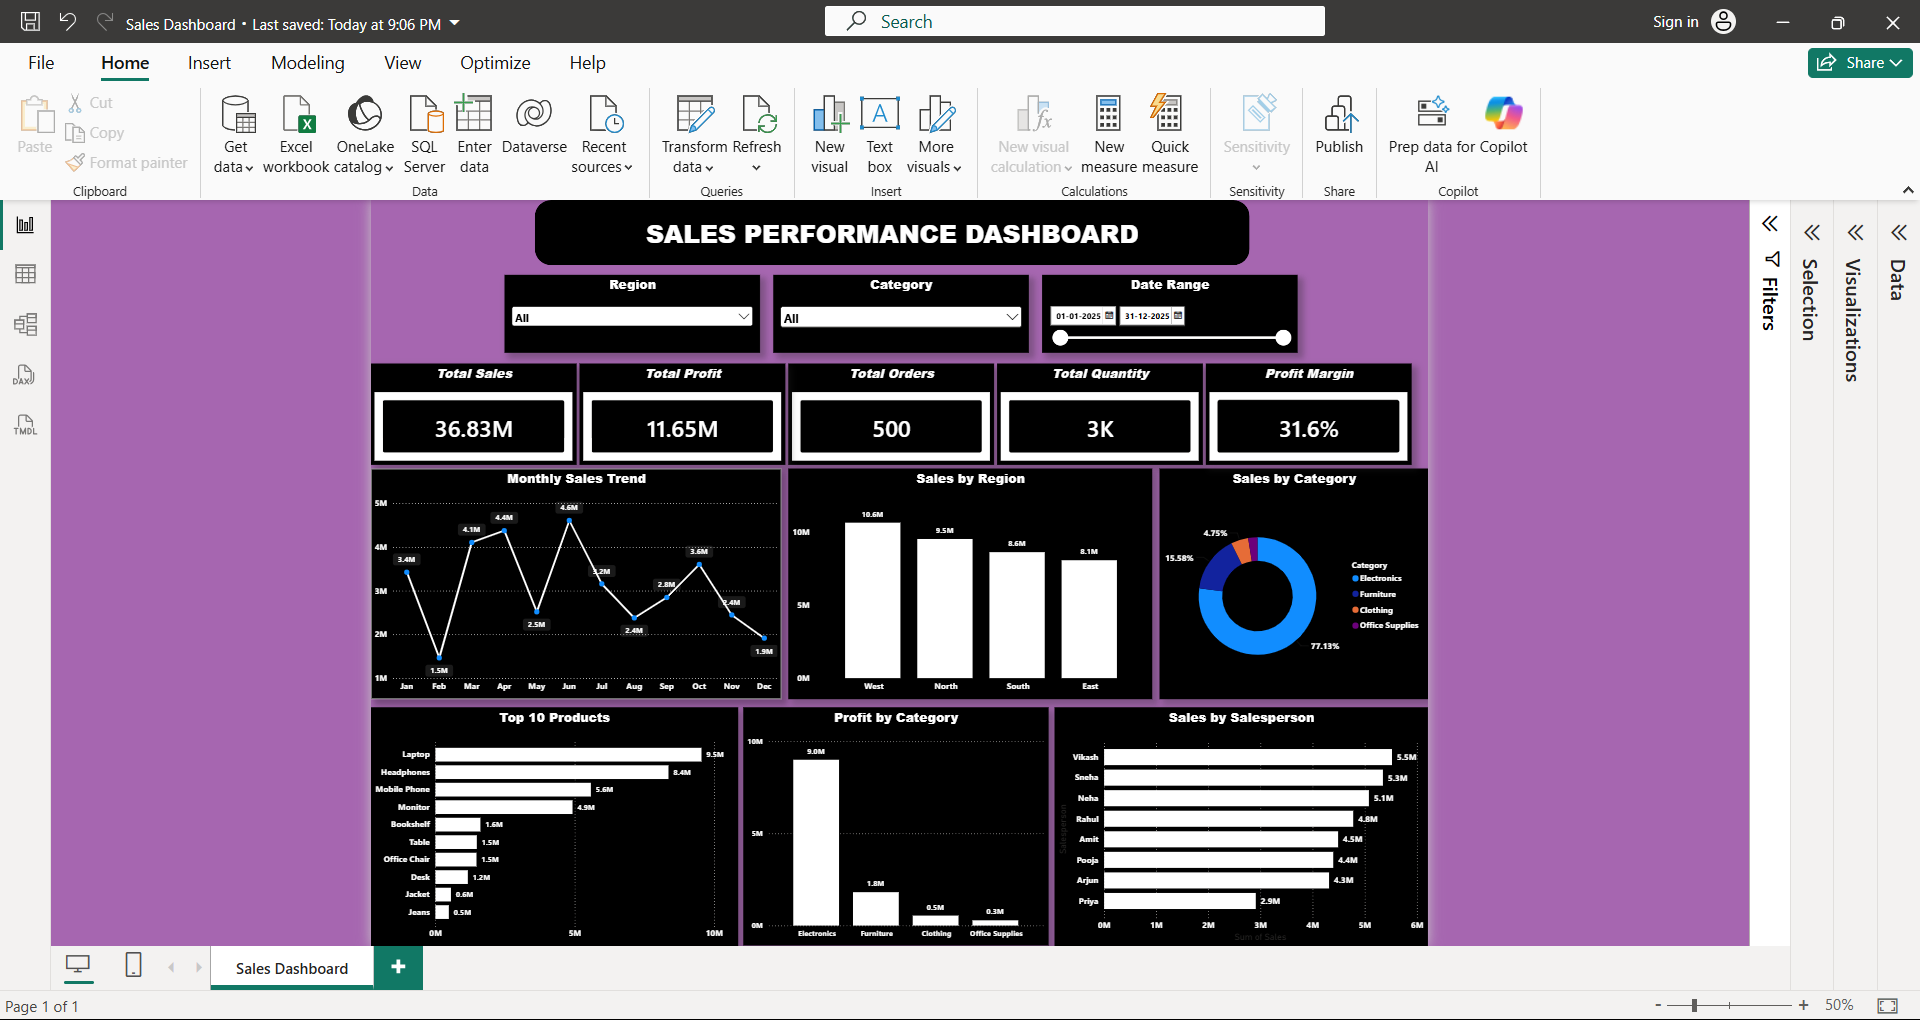

What the dashboard file says about the page in this screenshot:
{"tool":"powerbi","page":{"name":"Sales Dashboard","canvas":[1700,1200],"ordinal":0},"visuals":[{"type":"cardVisual","title":"Total Sales","fields":{"Data":["Sales Data.Total Sales"]},"box":[0,264,330,162],"z":0},{"type":"cardVisual","title":"Total Orders","fields":{"Data":["Sales Data.Total Orders"]},"box":[672,264,330,162],"z":1000},{"type":"cardVisual","title":"Total Profit","fields":{"Data":["Sales Data.Total Profit"]},"box":[336,264,330,162],"z":2000},{"type":"cardVisual","title":"Total Quantity","fields":{"Data":["Sales Data.Total Quantity"]},"box":[1008,264,330,162],"z":3000},{"type":"lineChart","title":"Monthly Sales Trend","fields":{"Category":["Date Table.Month"],"Y":["Sum(Sales Data.Sales)"]},"box":[0,432,660,370],"z":4000},{"type":"clusteredColumnChart","title":"Sales by Region","fields":{"Category":["Sales Data.Region"],"Y":["Sum(Sales Data.Sales)"]},"box":[672,432,585,370],"z":5000},{"type":"donutChart","title":"Sales by Category","fields":{"Category":["Sales Data.Category"],"Y":["Sum(Sales Data.Sales)"]},"box":[1268,432,432,370],"z":6000},{"type":"clusteredBarChart","title":"Top 10 Products","fields":{"Category":["Sales Data.Product"],"Y":["Sum(Sales Data.Sales)"]},"box":[0,816,590,384],"z":7000},{"type":"clusteredColumnChart","title":"Profit by Category","fields":{"Category":["Sales Data.Category"],"Y":["Sum(Sales Data.Profit)"]},"box":[600,816,490,382],"z":9000},{"type":"cardVisual","title":"Profit Margin","fields":{"Data":["Date Table.Profit Margin%"]},"box":[1344,264,330,162],"z":10000},{"type":"slicer","title":"Region","fields":{"Values":["Sales Data.Region"]},"box":[216,120,410,125],"z":11000},{"type":"slicer","title":"Category","fields":{"Values":["Sales Data.Category"]},"box":[648,120,410,125],"z":12000},{"type":"slicer","title":"Date Range","fields":{"Values":["Date Table.Date"]},"box":[1080,120,410,125],"z":13000},{"type":"clusteredBarChart","title":"Sales by Salesperson","fields":{"Category":["Sales Data.Salesperson"],"Y":["Sum(Sales Data.Sales)"]},"box":[1100,816,600,384],"z":14000},{"type":"shape","box":[264,0,1150,105],"z":15000}]}

Visuals, with their boxes on the page's 1700x1200 design canvas (x1, y1, x2, y2). These are canvas units, not pixel positions in the 1920x1020 screenshot, which may show the page scaled, cropped or inside an application window:
"Total Sales" cardVisual: locate(0, 264, 330, 426)
"Total Orders" cardVisual: locate(672, 264, 1002, 426)
"Total Profit" cardVisual: locate(336, 264, 666, 426)
"Total Quantity" cardVisual: locate(1008, 264, 1338, 426)
"Monthly Sales Trend" lineChart: locate(0, 432, 660, 802)
"Sales by Region" clusteredColumnChart: locate(672, 432, 1257, 802)
"Sales by Category" donutChart: locate(1268, 432, 1700, 802)
"Top 10 Products" clusteredBarChart: locate(0, 816, 590, 1200)
"Profit by Category" clusteredColumnChart: locate(600, 816, 1090, 1198)
"Profit Margin" cardVisual: locate(1344, 264, 1674, 426)
"Region" slicer: locate(216, 120, 626, 245)
"Category" slicer: locate(648, 120, 1058, 245)
"Date Range" slicer: locate(1080, 120, 1490, 245)
"Sales by Salesperson" clusteredBarChart: locate(1100, 816, 1700, 1200)
shape: locate(264, 0, 1414, 105)
